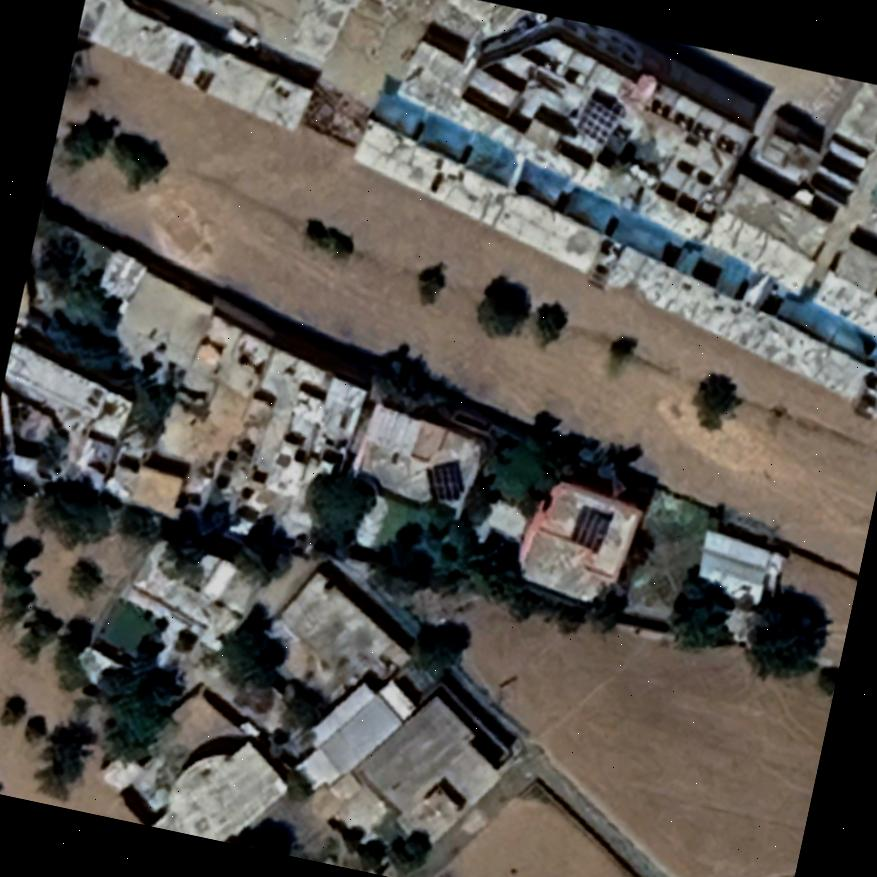Solarpanel: (416, 448, 475, 512), (565, 498, 617, 556), (570, 91, 621, 148)
